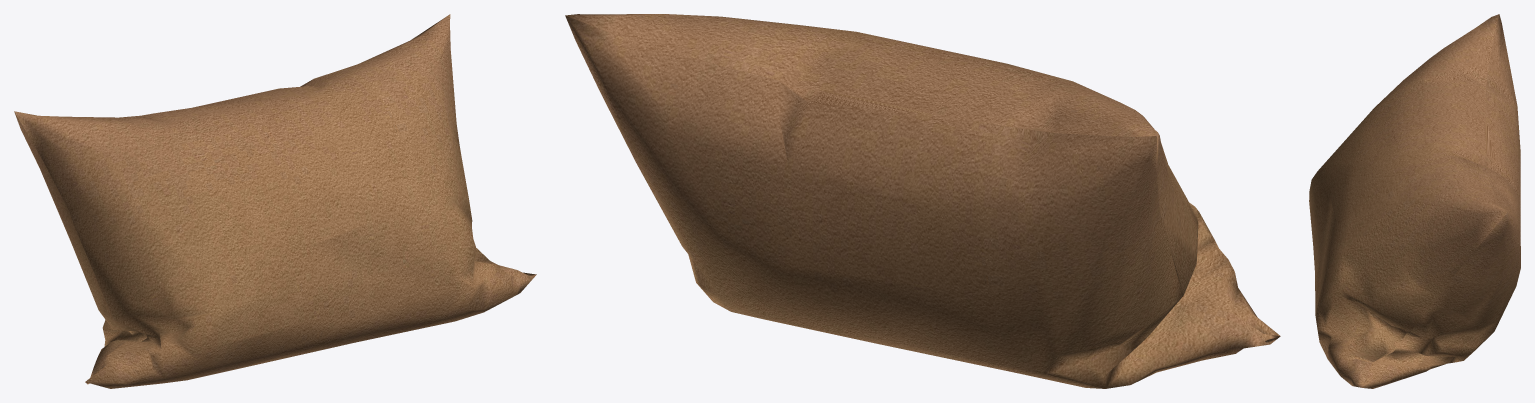
The model's file is Pillow.FBX.
The picture shows the model from 3 angles, left to right: view 1: azimuth 30°, elevation 25°; view 2: azimuth 150°, elevation 25°; view 3: azimuth 270°, elevation 25°; orthographic projection. The views are drawn at different scales.
Visible parts, largest first — view 1: pillow; view 2: pillow; view 3: pillow.
Part boxes in pixels (x1,y1,x2,y2): pillow: [14, 14, 536, 388]; pillow: [565, 14, 1280, 388]; pillow: [1309, 14, 1520, 388].
Size of the model in its own units: 69.12 by 33.26 by 32.06.
1 material, 1 textured.
